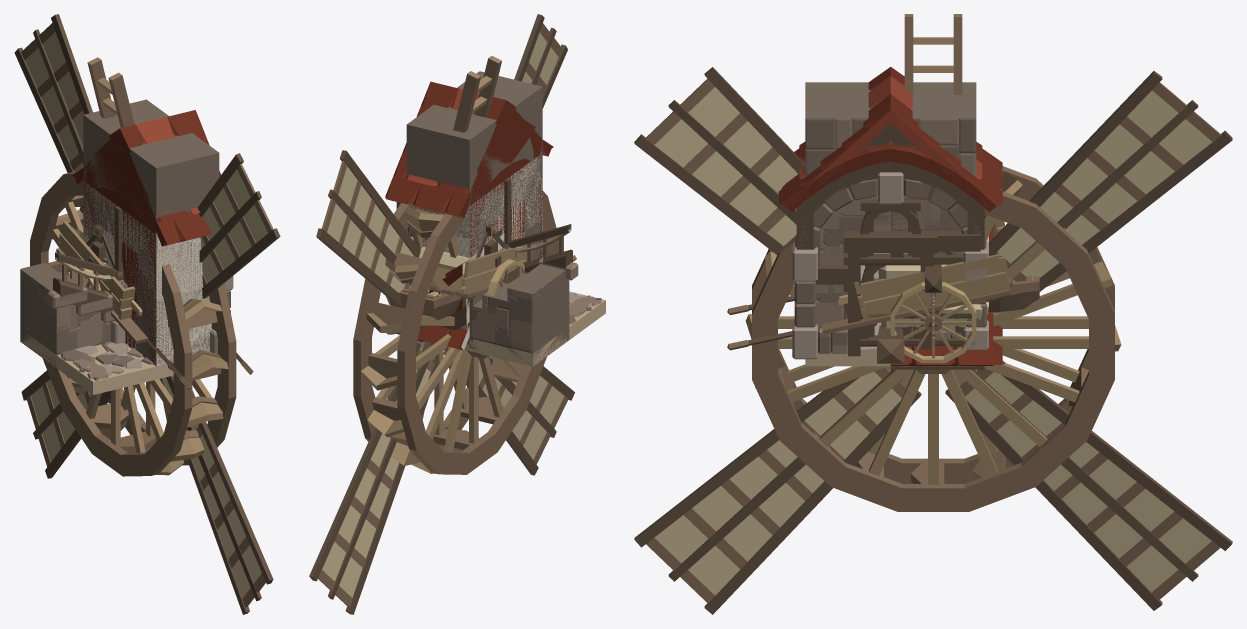
The model's file is village-mv.glb.
The picture shows the model from 3 angles, left to right: view 1: azimuth 30°, elevation 25°; view 2: azimuth 150°, elevation 25°; view 3: azimuth 270°, elevation 25°; orthographic projection. The views are drawn at different scales.
Parts seen in each view (by area): view 1: Wall_Prop_Windmill_1, Waterwheel_1, Kit_Window_Upper_Convex, Stone_Arch, Stone_Doorway_Wide_Tall_1, Stone_Steps_Side_1, Kit_Window_Upper_Straight, Prop_Cart_1, Cobblestone_Dirt_Transition_1, Stone_Steps, Prop_Ladder_1, Wood_Railing_Stairs (+12 smaller); view 2: Waterwheel_1, Wall_Prop_Windmill_1, Stone_Arch, Kit_Window_Upper_Convex, Stone_Steps_Side_1, Kit_Window_Upper_Straight, Stone_Doorway_Wide_Tall_1, Stone_Steps, Prop_Cart_1, Stone_Steps_Side_2, Prop_Ladder_1, Wood_Railing_Stairs (+13 smaller); view 3: Wall_Prop_Windmill_1, Waterwheel_1, Stone_Arch_Outer, Kit_Window_Upper_Convex, Prop_Cart_1, Kit_Window_Upper_Straight, Stone_Doorway_Wide_Tall_1, Stone_Arch, Stone_to_Stucco_Doorway_Wide_Tall_1, Stone_Doorway_Wide_Tall_2, Prop_Ladder_1, Stone_Doorway_Narrow_Tall_1 (+2 smaller).
Part boxes in pixels (x1,y1,x2,y2): Wall_Prop_Windmill_1: (14,14,280,614); Waterwheel_1: (30,172,236,476); Kit_Window_Upper_Convex: (72,154,212,365); Stone_Arch: (83,99,219,260); Stone_Doorway_Wide_Tall_1: (83,185,209,365); Stone_Steps_Side_1: (20,263,110,366); Kit_Window_Upper_Straight: (83,110,220,233); Prop_Cart_1: (56,221,253,389); Cobblestone_Dirt_Transition_1: (20,335,173,394); Stone_Steps: (20,264,68,367); Prop_Ladder_1: (87,57,134,127); Wood_Railing_Stairs: (53,252,118,313); Waterwheel_1: (353,191,558,474); Wall_Prop_Windmill_1: (309,14,574,614); Stone_Arch: (406,71,542,232); Kit_Window_Upper_Convex: (385,126,553,258); Stone_Steps_Side_1: (468,271,569,364); Kit_Window_Upper_Straight: (394,81,541,204); Stone_Doorway_Wide_Tall_1: (423,156,542,260); Stone_Steps: (473,264,569,365); Prop_Cart_1: (386,237,576,305); Stone_Steps_Side_2: (468,270,565,352); Prop_Ladder_1: (453,56,501,132); Wood_Railing_Stairs: (507,224,572,272); Wall_Prop_Windmill_1: (634,67,1232,614); Waterwheel_1: (745,166,1121,511); Stone_Arch_Outer: (792,116,988,359); Kit_Window_Upper_Convex: (778,143,1002,349); Prop_Cart_1: (727,219,1012,363); Kit_Window_Upper_Straight: (785,67,995,349); Stone_Doorway_Wide_Tall_1: (816,195,963,356); Stone_Arch: (805,82,976,118); Stone_to_Stucco_Doorway_Wide_Tall_1: (815,231,961,355); Stone_Doorway_Wide_Tall_2: (816,198,962,353); Prop_Ladder_1: (904,14,962,94); Stone_Doorway_Narrow_Tall_1: (886,196,980,334).
Size of the model in its own units: 2.65 by 7.41 by 7.
